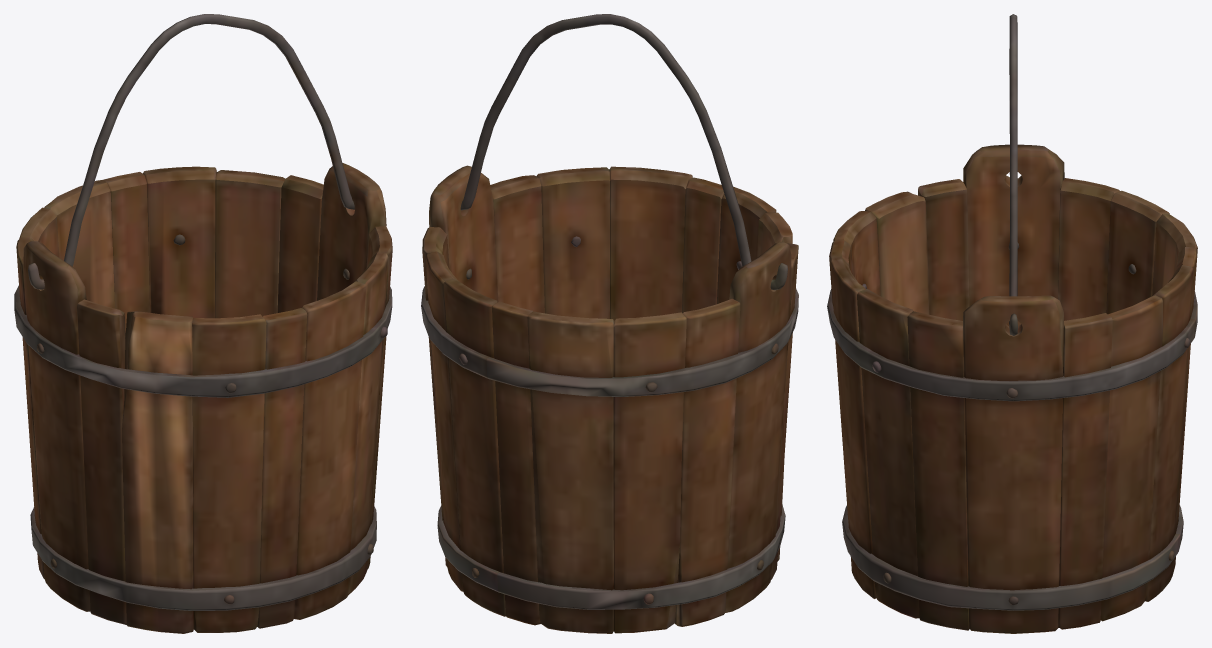
File: wooden_bucket_01.glb
3 views of the same model, side by side, from view 1: azimuth 30°, elevation 25°; view 2: azimuth 150°, elevation 25°; view 3: azimuth 270°, elevation 25° (orthographic).
Parts seen in each view (by area): view 1: wooden_bucket_01; view 2: wooden_bucket_01; view 3: wooden_bucket_01.
Part boxes in pixels (bbox=[...]): wooden_bucket_01: bbox=[14, 14, 392, 633]; wooden_bucket_01: bbox=[421, 14, 798, 633]; wooden_bucket_01: bbox=[827, 14, 1197, 633].
Size of the model in its own units: 0.367 by 0.5499 by 0.3419.
1 material, 1 textured.
